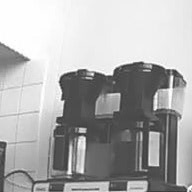empty coffee: (49, 121, 106, 178)
not empty coffee: (112, 121, 165, 179)
